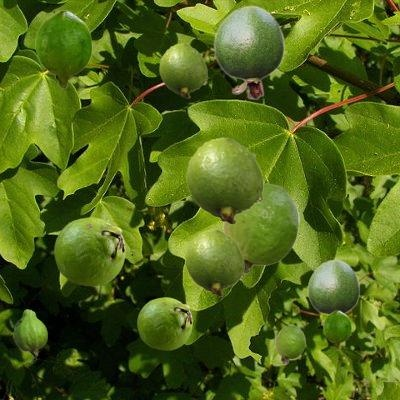guava: (223, 183, 298, 273), (213, 5, 284, 99), (186, 137, 262, 223), (54, 217, 124, 285), (35, 10, 91, 88), (185, 229, 243, 295), (307, 259, 359, 326), (137, 297, 191, 349), (159, 43, 206, 97), (13, 309, 46, 359), (275, 325, 304, 363), (323, 310, 350, 348)
